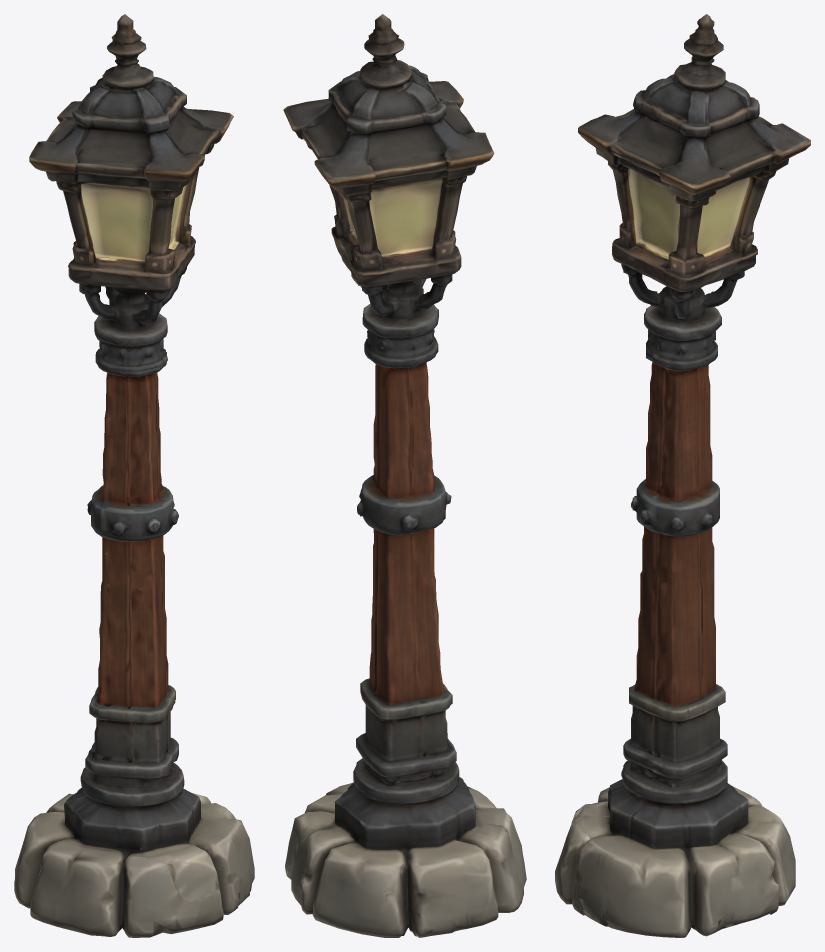
The model's file is street_lamp.glb.
The picture shows the model from 3 angles, left to right: view 1: azimuth 30°, elevation 25°; view 2: azimuth 150°, elevation 25°; view 3: azimuth 270°, elevation 25°; orthographic projection. The views are drawn at different scales.
Parts seen in each view (by area): view 1: tripo_node_2f447b82-240e-4c8f-b0e3-b5f944bae943; view 2: tripo_node_2f447b82-240e-4c8f-b0e3-b5f944bae943; view 3: tripo_node_2f447b82-240e-4c8f-b0e3-b5f944bae943.
Boxes of the visible parts, x1,y1,x2,y2 form: tripo_node_2f447b82-240e-4c8f-b0e3-b5f944bae943: (14,14,254,937); tripo_node_2f447b82-240e-4c8f-b0e3-b5f944bae943: (283,14,526,937); tripo_node_2f447b82-240e-4c8f-b0e3-b5f944bae943: (555,14,810,937).
Bounding box in the file's own units: 0.2543 × 0.9769 × 0.2581.
1 material, 1 textured.
